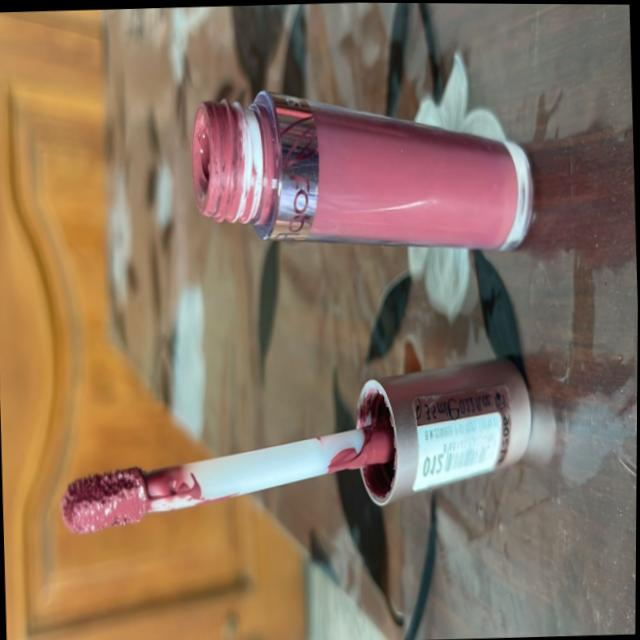lip gloss: (24, 317, 560, 594), (164, 57, 572, 295)
